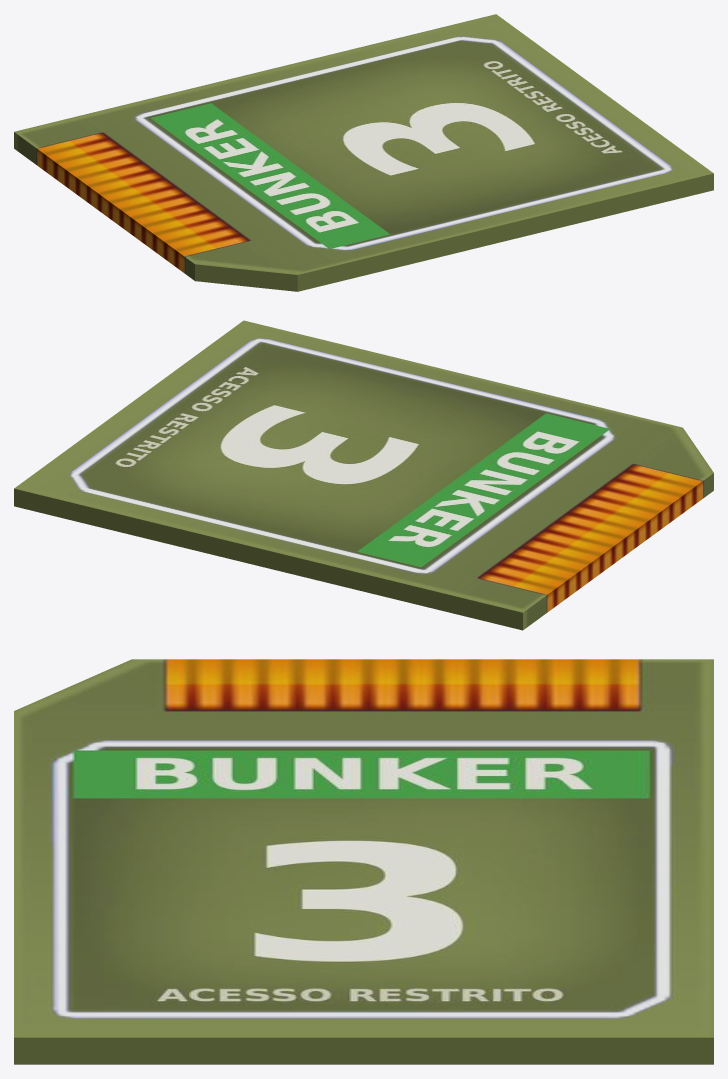
File: cartao_bunker_3.glb
3 renders of one model, top to bottom at view 1: azimuth 30°, elevation 25°; view 2: azimuth 150°, elevation 25°; view 3: azimuth 270°, elevation 25°, orthographic. The views are drawn at different scales.
Visible parts, largest first — view 1: cartao; view 2: cartao; view 3: cartao.
Part boxes in pixels (x1=…): cartao: x1=14, y1=14, x2=713, y2=291; cartao: x1=14, y1=320, x2=713, y2=630; cartao: x1=14, y1=659, x2=713, y2=1064.
Bounding box in the file's own units: 0.086 × 0.00287 × 0.0672.
1 material, 1 textured.
